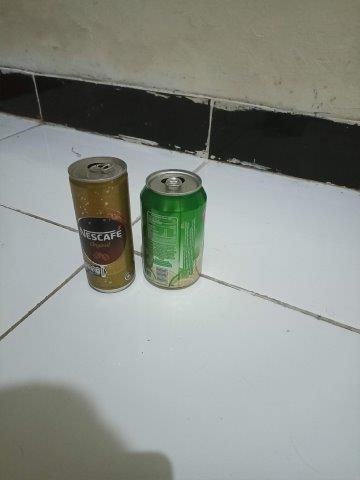kaleng: (67, 156, 136, 294), (140, 168, 207, 290)
